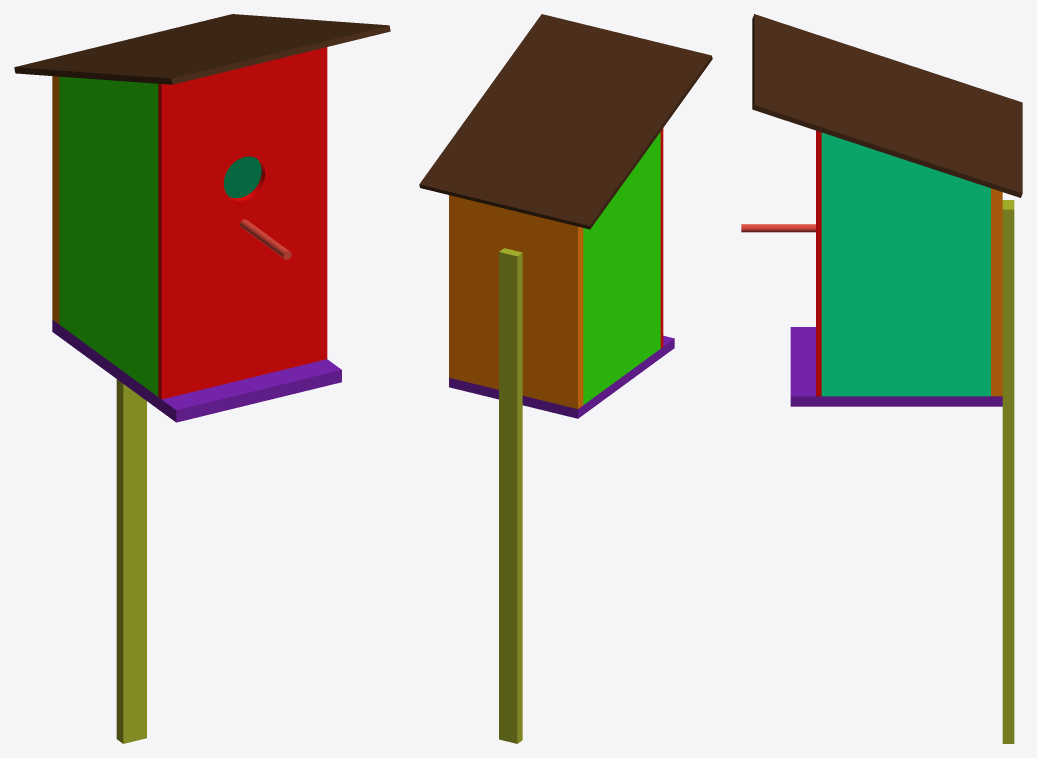
The model's file is skvorechnik.fbx.
3 renders of one model, left to right at view 1: azimuth 30°, elevation 25°; view 2: azimuth 150°, elevation 25°; view 3: azimuth 270°, elevation 25°, orthographic. The views are drawn at different scales.
Parts seen in each view (by area): view 1: Object001, Object002, Shape001, Box011, Box005, Object003, Object004; view 2: Shape001, Object003, Object002, Box011, Box005, Object001; view 3: Object004, Shape001, Box011, Box005, Object003, Object001, Cylinder001.
Boxes of the visible parts, left/top/right/bottom form: Object001: left=158, top=47, right=327, bottom=399; Object002: left=59, top=76, right=158, bottom=396; Shape001: left=14, top=14, right=390, bottom=84; Box011: left=116, top=379, right=146, bottom=743; Box005: left=52, top=320, right=341, bottom=422; Object003: left=52, top=76, right=59, bottom=323; Object004: left=223, top=156, right=261, bottom=198; Shape001: left=419, top=14, right=712, bottom=229; Object003: left=449, top=195, right=583, bottom=408; Object002: left=583, top=132, right=660, bottom=404; Box011: left=499, top=248, right=522, bottom=743; Box005: left=449, top=335, right=674, bottom=418; Object001: left=660, top=128, right=663, bottom=348; Object004: left=821, top=132, right=990, bottom=396; Shape001: left=752, top=14, right=1022, bottom=197; Box011: left=1002, top=200, right=1014, bottom=743; Box005: left=790, top=327, right=1002, bottom=406; Object003: left=991, top=188, right=1002, bottom=396; Object001: left=816, top=130, right=821, bottom=396; Cylinder001: left=741, top=224, right=815, bottom=232.
Size of the model in its own units: 185 by 643 by 241.
